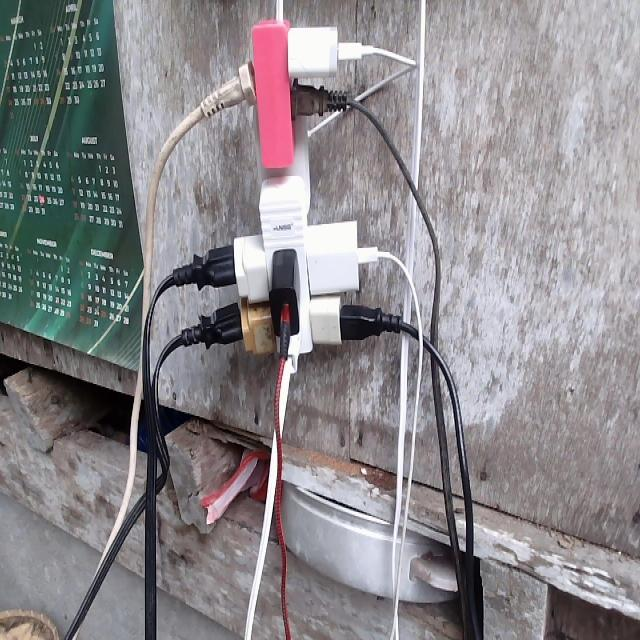-: (193, 11, 376, 370)
